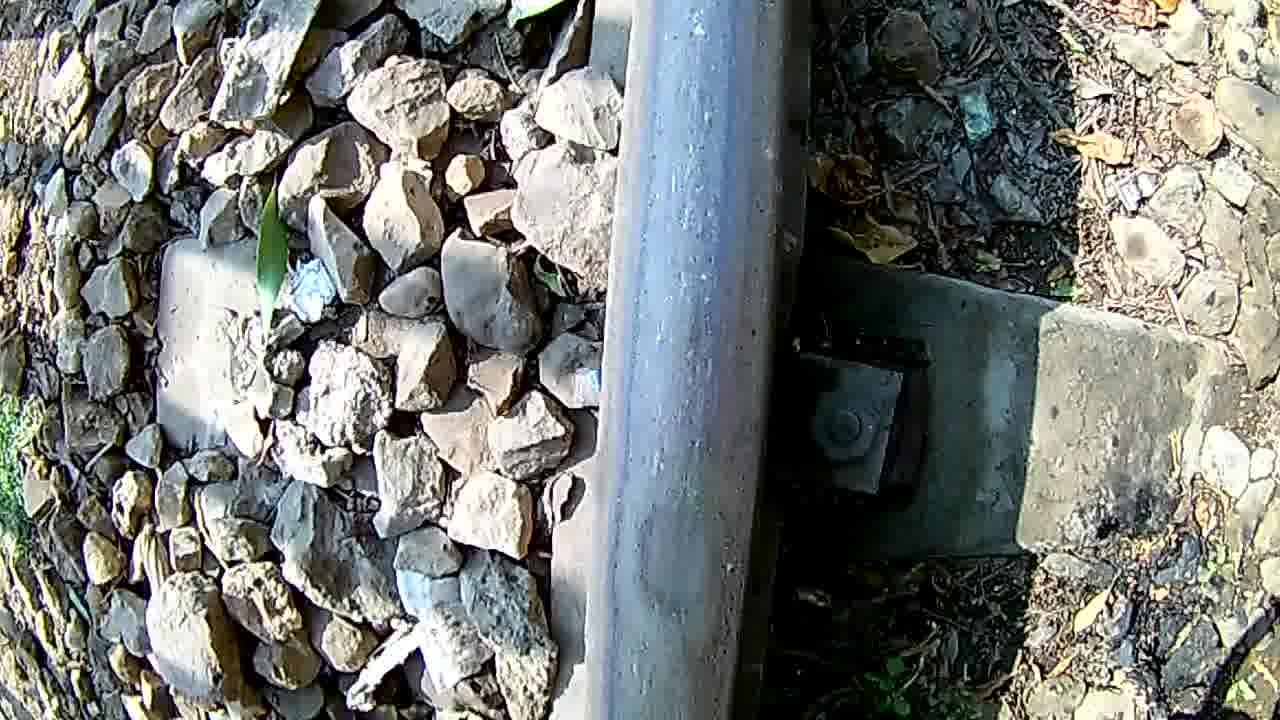bolt_missing: (587, 442, 760, 680)
